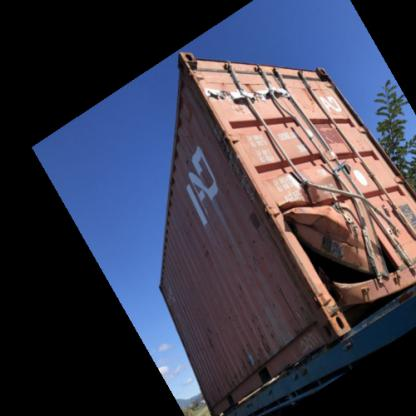Damage: (209, 68, 404, 313)
